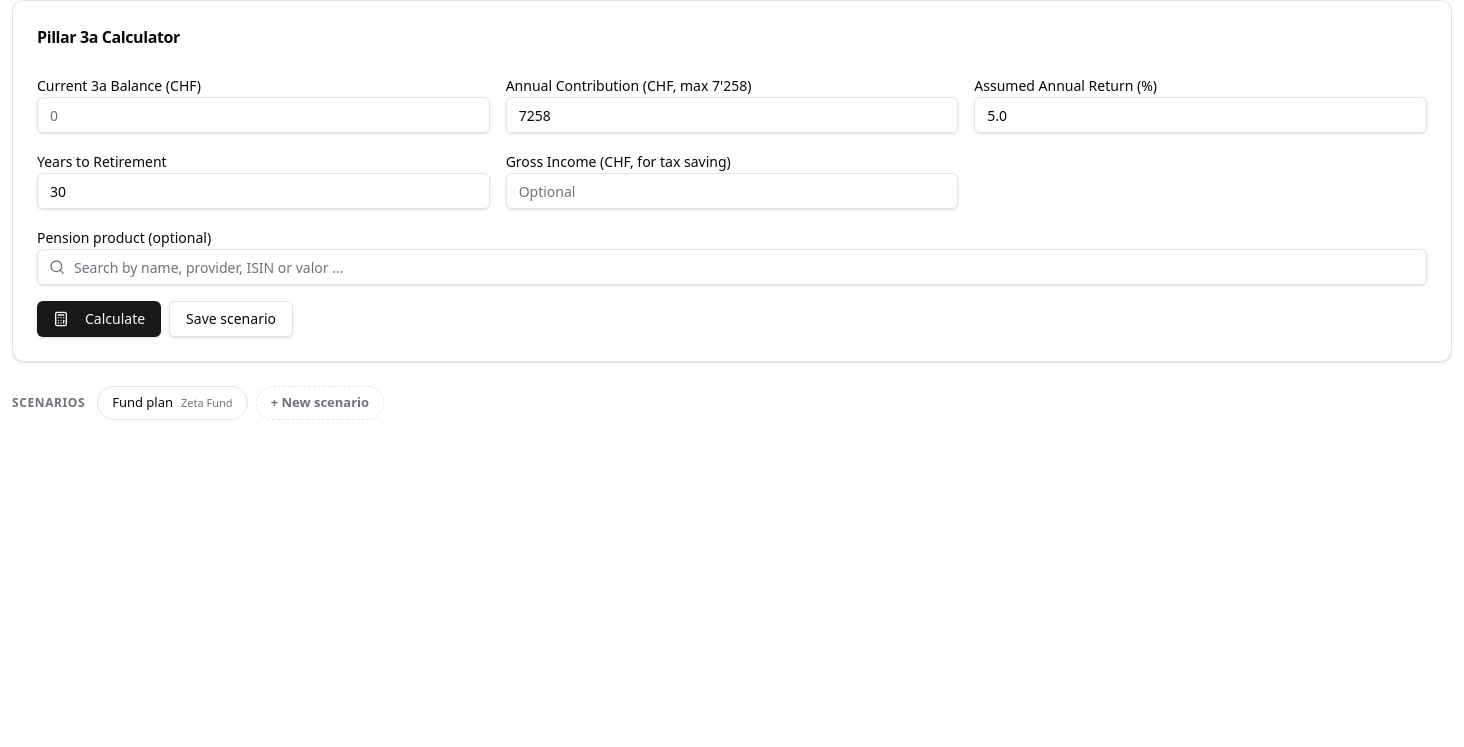
Test: CalculatorTab › prefills the linked product from the scenario response even when the catalog is empty
Click the button "Fund plan" at (136, 403), box x1=98 y1=387 x2=173 y2=418
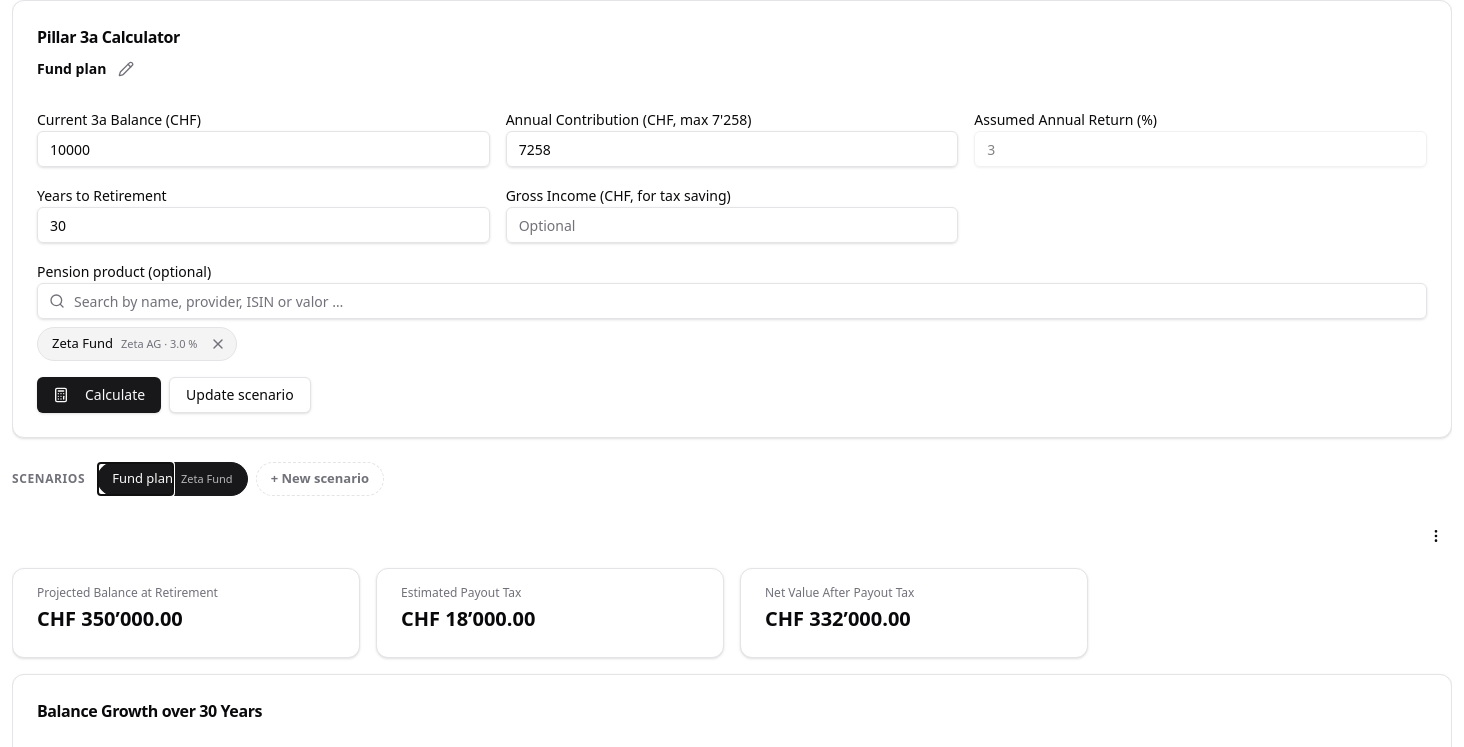
Now the button named "Remove product" is shown, box x1=206 y1=332 x2=230 y2=356
Now the text "Zeta AG · 3.0 %" is shown, box x1=121 y1=336 x2=198 y2=352
Now the number field showing "3" below "Assumed Annual Return (%)" is disabled, box x1=974 y1=131 x2=1427 y2=167
